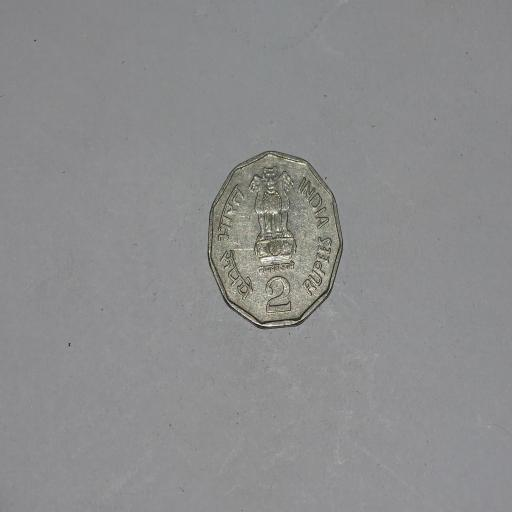rupee2: (206, 149, 344, 332)
